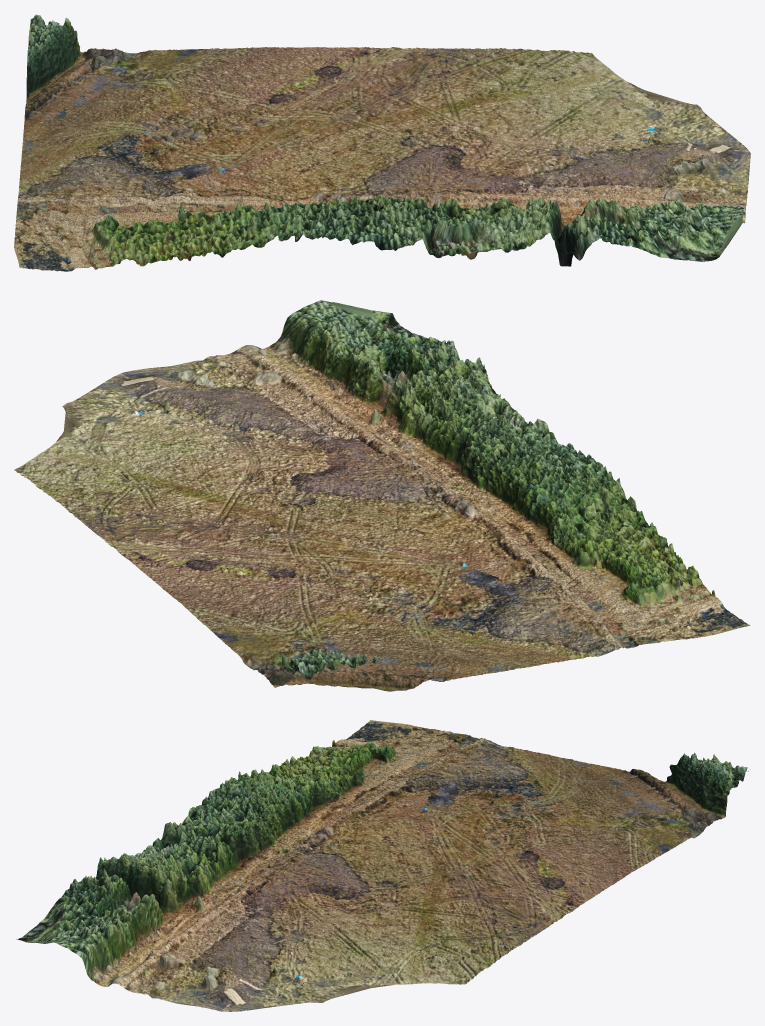
Rendered from Reprofiling_Peat.glb.
The picture shows the model from 3 angles, top to bottom: view 1: azimuth 30°, elevation 25°; view 2: azimuth 150°, elevation 25°; view 3: azimuth 270°, elevation 25°; orthographic projection. The views are drawn at different scales.
Size of the model in its own units: 356 by 32.33 by 364.
Materials: 2 (2 with a texture image).
